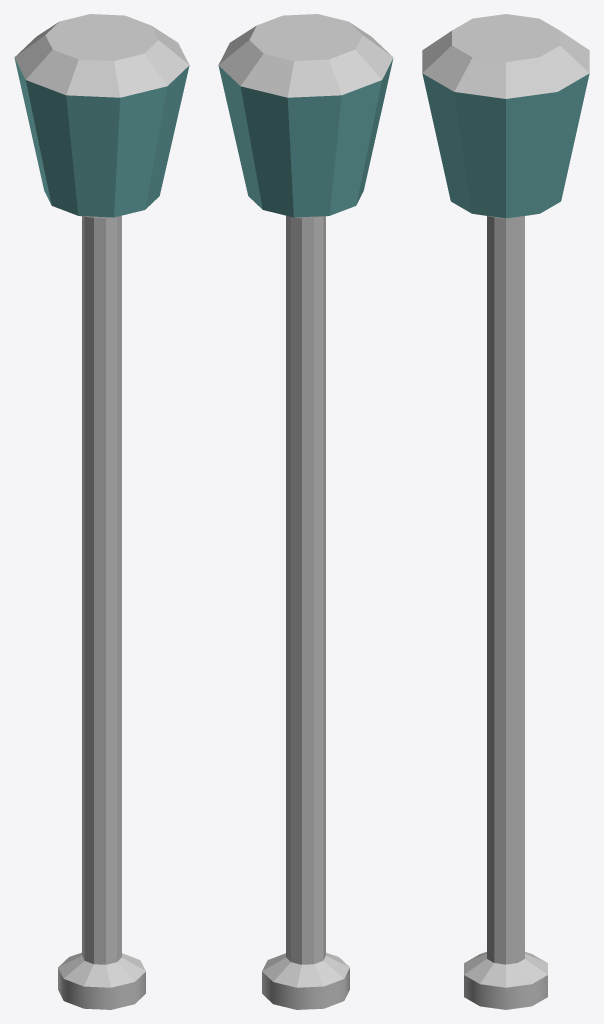
The model's file is farola.fbx.
The picture shows the model from 3 angles, left to right: view 1: azimuth 30°, elevation 25°; view 2: azimuth 150°, elevation 25°; view 3: azimuth 270°, elevation 25°; orthographic projection.
Parts seen in each view (by area): view 1: farola_2; view 2: farola_2; view 3: farola_2.
Boxes of the visible parts, x1,y1,x2,y2 form: farola_2: [14, 14, 189, 1009]; farola_2: [218, 14, 393, 1009]; farola_2: [422, 14, 589, 1009].
Size of the model in its own units: 22.06 by 132 by 20.98.
